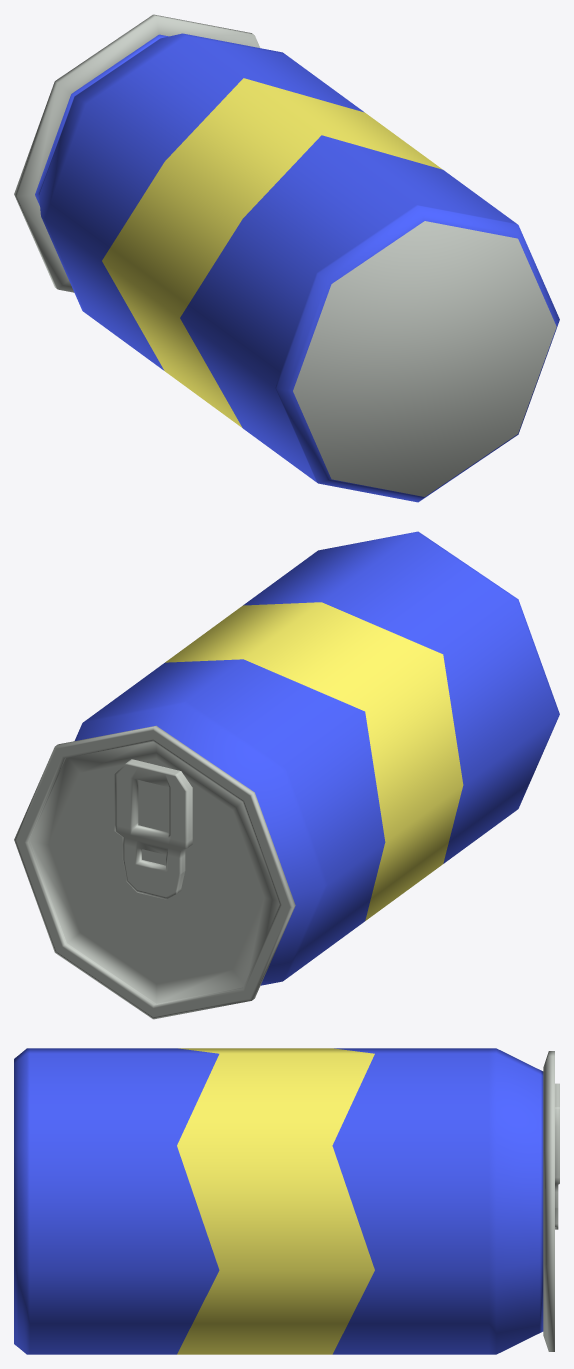
File: Soda1 (3).fbx
The picture shows the model from 3 angles, top to bottom: view 1: azimuth 30°, elevation 25°; view 2: azimuth 150°, elevation 25°; view 3: azimuth 270°, elevation 25°; orthographic projection.
Parts seen in each view (by area): view 1: Cylinder; view 2: Cylinder; view 3: Cylinder.
Part boxes in pixels (x1=…): Cylinder: x1=14, y1=14, x2=559, y2=502; Cylinder: x1=14, y1=531, x2=559, y2=1019; Cylinder: x1=14, y1=1048, x2=559, y2=1354.
Size of the model in its own units: 200 by 200 by 335.
